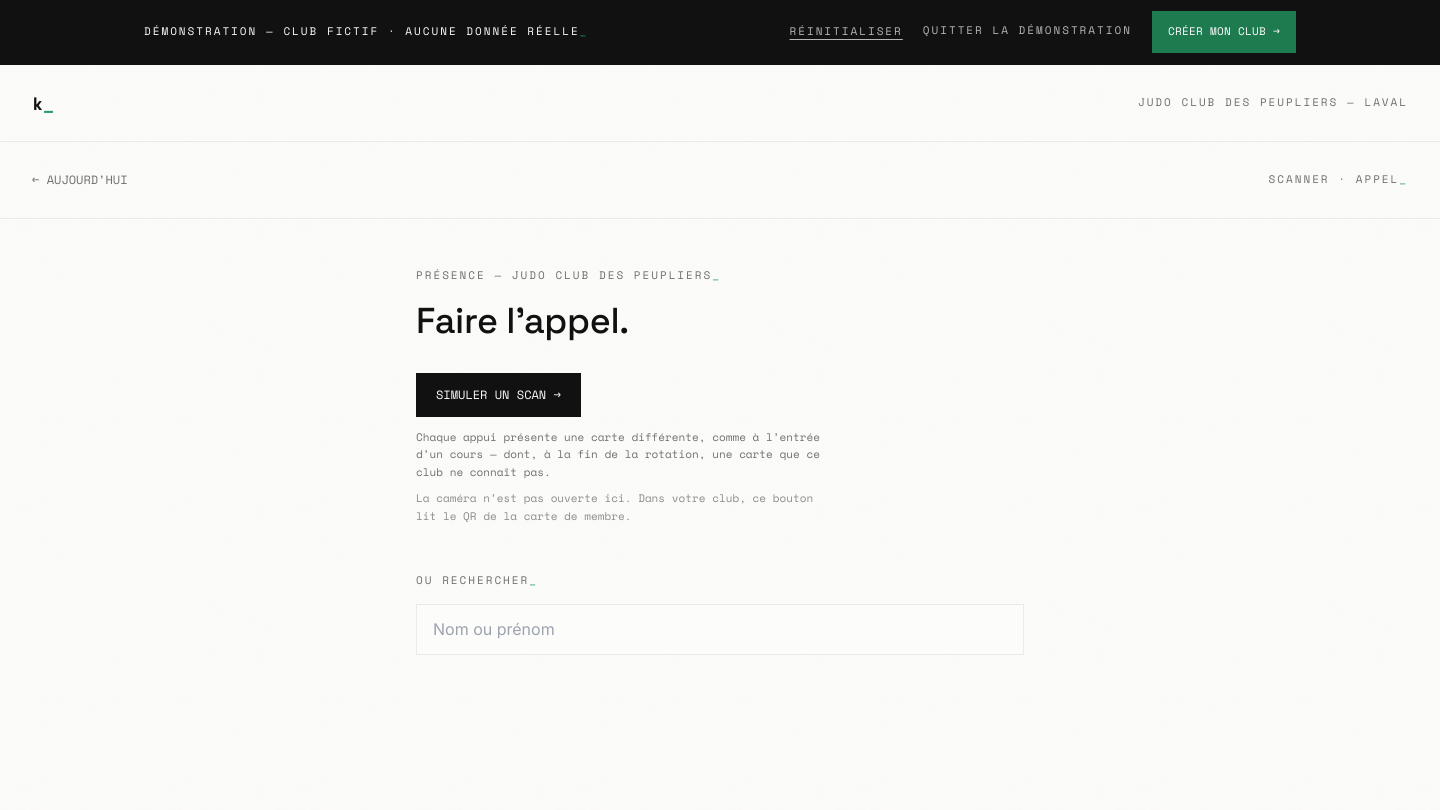
Test case: l’écran de contrôle › recommence la rotation au tour suivant
Click the button "SIMULER UN SCAN →" at (498, 395), box 416,373 -> 581,417
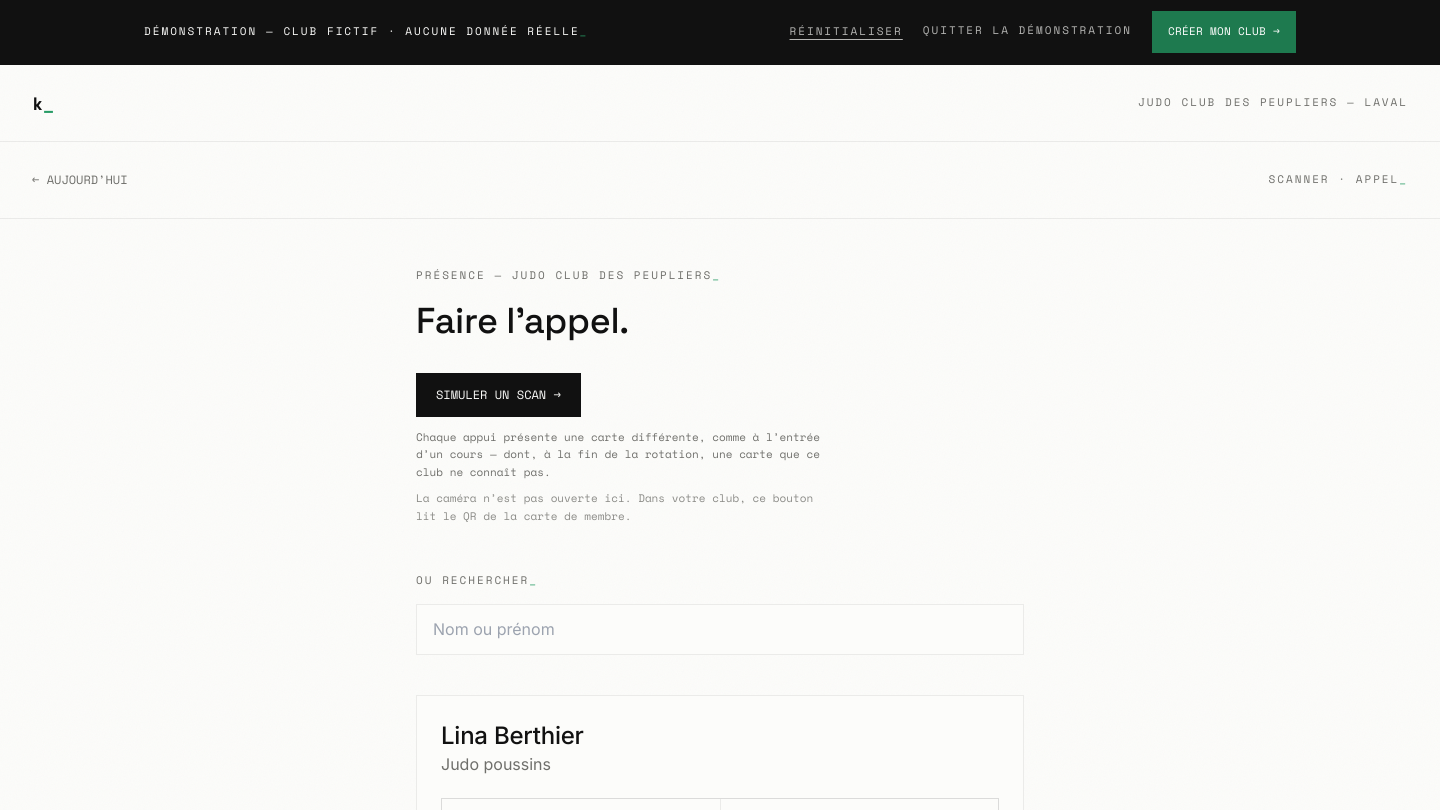
Click the button "SIMULER UN SCAN →" at (498, 395), box 416,373 -> 581,417
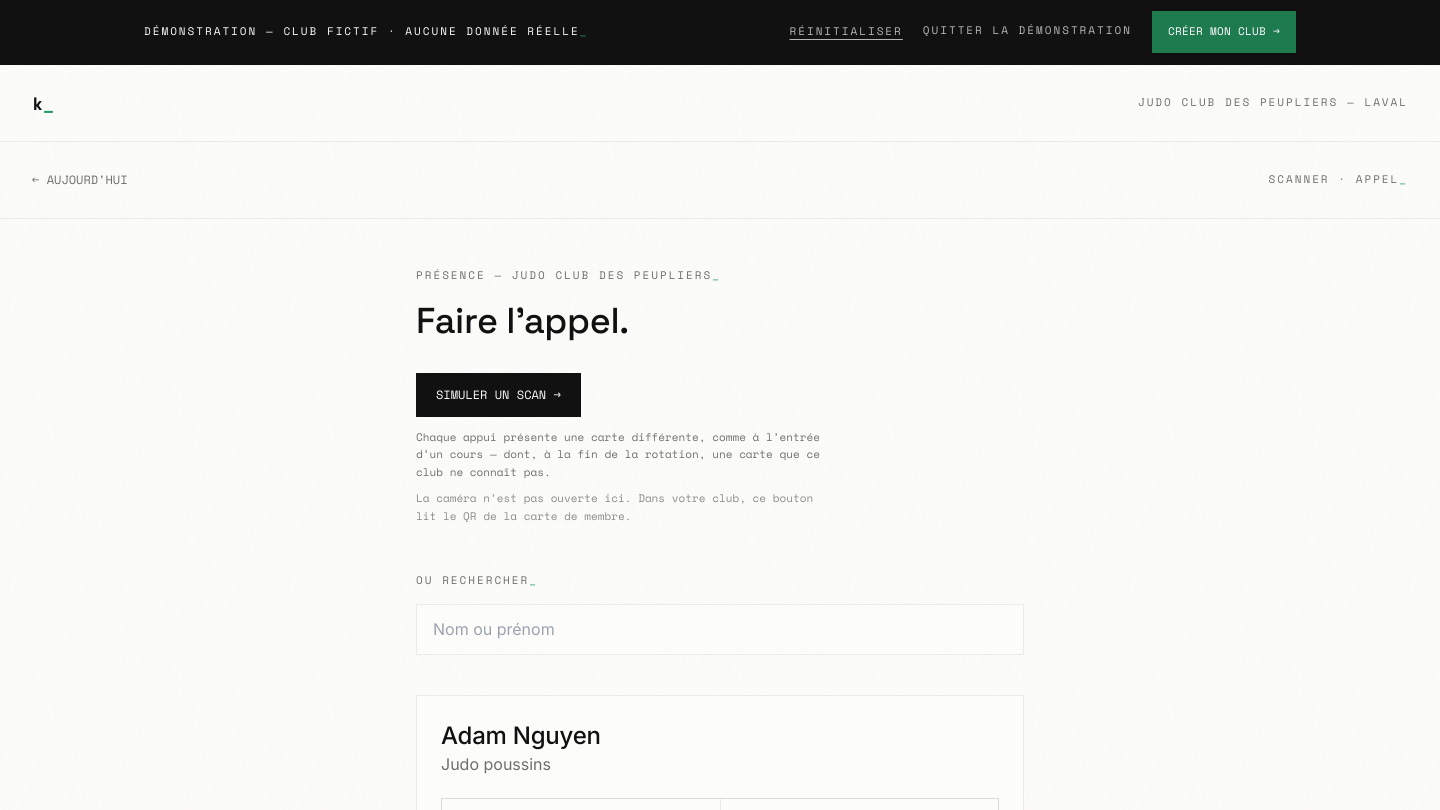
Click the button "SIMULER UN SCAN →" at (498, 395), box 416,373 -> 581,417
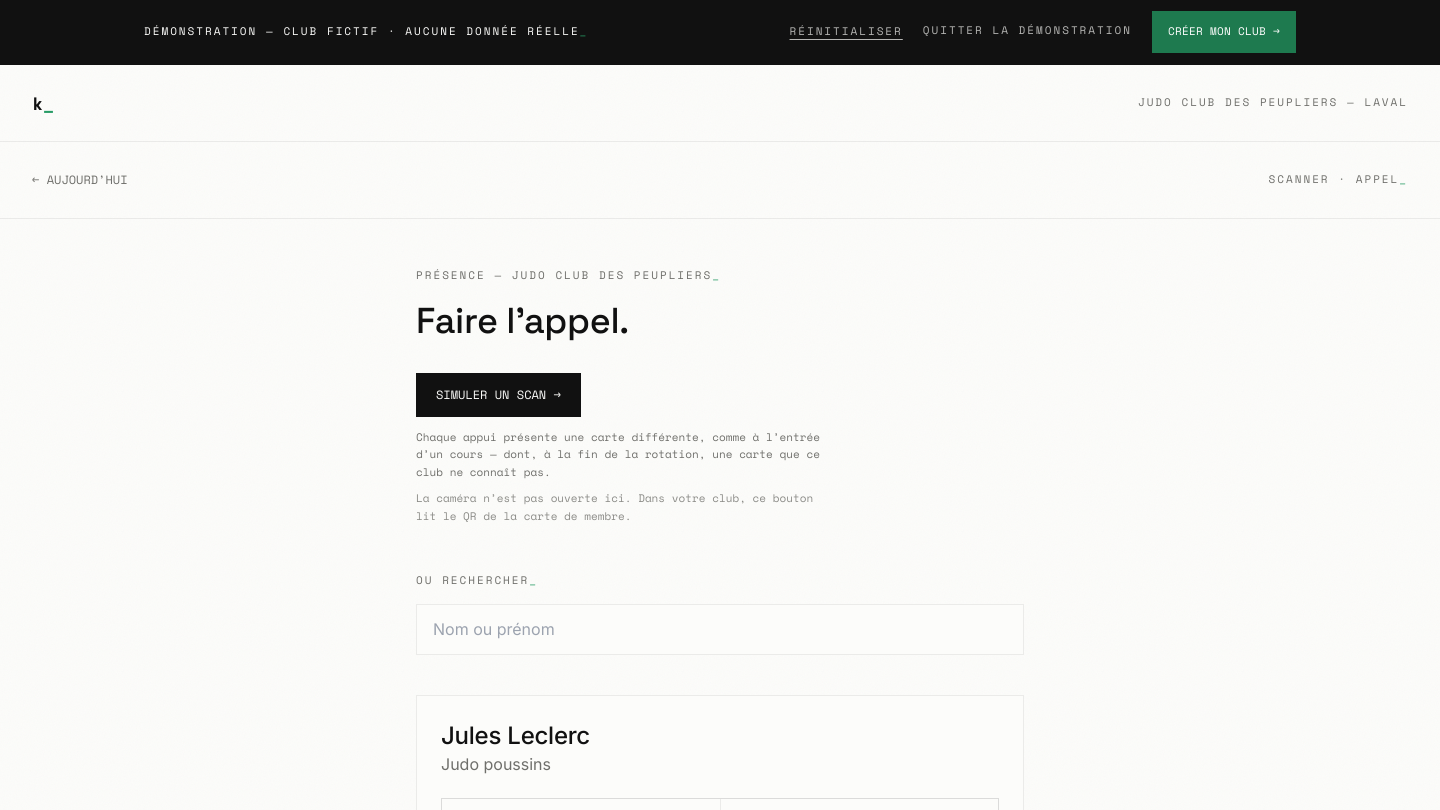
Click the button "SIMULER UN SCAN →" at (498, 395), box 416,373 -> 581,417
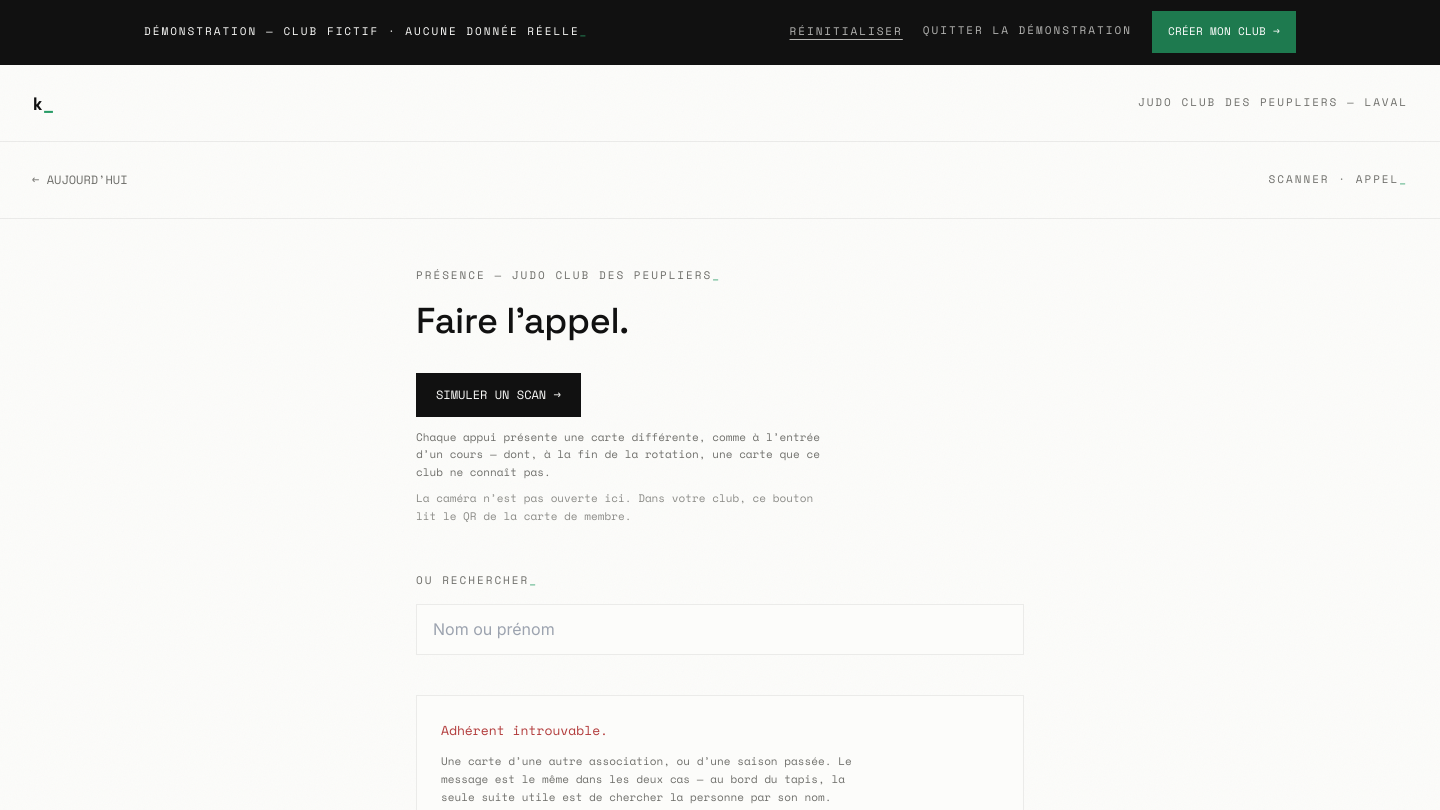
Click the button "SIMULER UN SCAN →" at (498, 395), box 416,373 -> 581,417
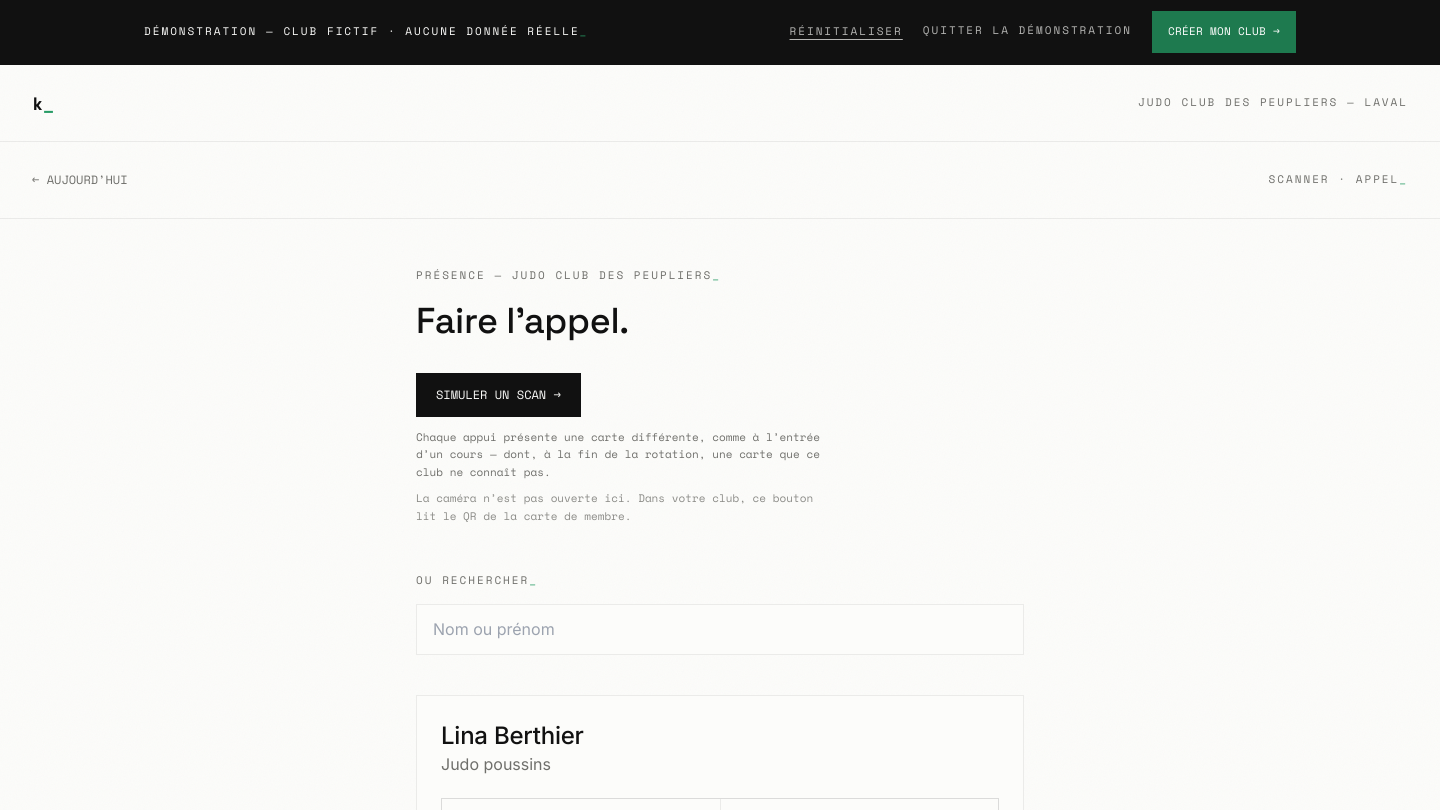
Expected: the text "Lina Berthier" is shown, 441,721 -> 584,750
